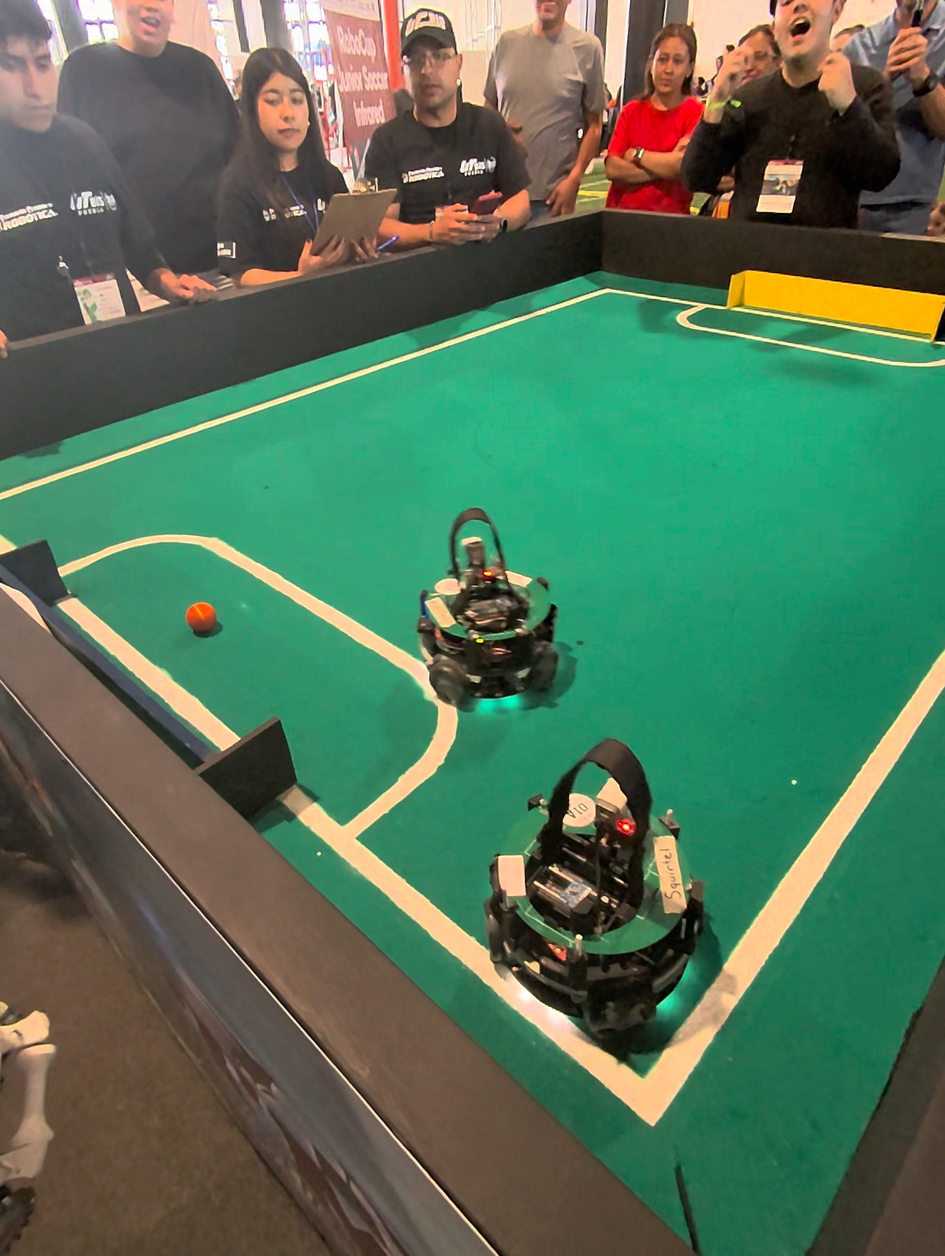Robot: (473, 722, 745, 1058), (418, 499, 563, 718)
pelota: (188, 603, 220, 636)
